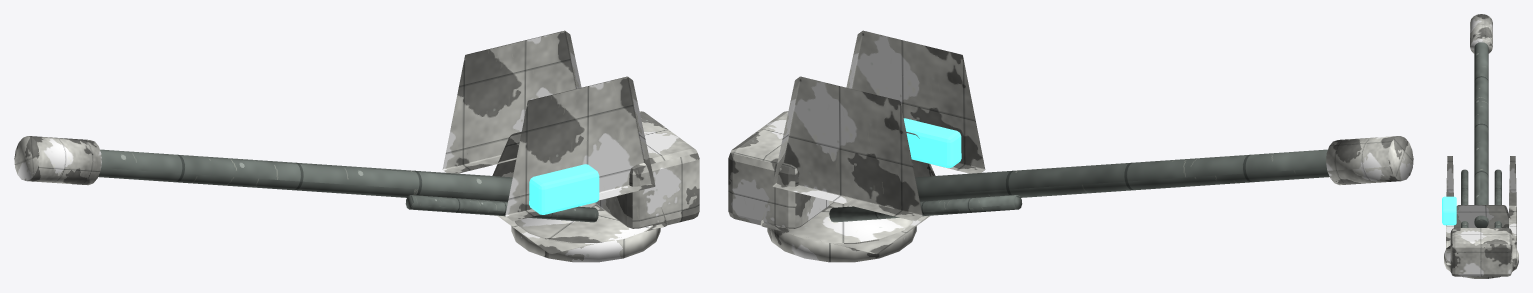
Rendered from artillery_turret.glb.
3 views of the same model, side by side, from view 1: azimuth 30°, elevation 25°; view 2: azimuth 150°, elevation 25°; view 3: azimuth 270°, elevation 25° (orthographic). The views are drawn at different scales.
Parts seen in each view (by area): view 1: artillery_turret_team_primary, artillery_turret_team_accent, artillery_turret_factory_metal, artillery_turret_glass_emissive; view 2: artillery_turret_team_primary, artillery_turret_team_accent, artillery_turret_factory_metal, artillery_turret_glass_emissive; view 3: artillery_turret_team_accent, artillery_turret_factory_metal, artillery_turret_team_primary, artillery_turret_glass_emissive.
Part boxes in pixels (x1=…): artillery_turret_team_primary: x1=442, y1=30, x2=667, y2=253; artillery_turret_team_accent: x1=14, y1=111, x2=699, y2=262; artillery_turret_factory_metal: x1=98, y1=149, x2=598, y2=222; artillery_turret_glass_emissive: x1=529, y1=164, x2=599, y2=214; artillery_turret_team_primary: x1=760, y1=30, x2=985, y2=253; artillery_turret_team_accent: x1=728, y1=111, x2=1413, y2=262; artillery_turret_factory_metal: x1=829, y1=149, x2=1329, y2=222; artillery_turret_glass_emissive: x1=903, y1=118, x2=961, y2=167; artillery_turret_team_accent: x1=1444, y1=14, x2=1518, y2=278; artillery_turret_factory_metal: x1=1461, y1=42, x2=1501, y2=227; artillery_turret_team_primary: x1=1446, y1=156, x2=1516, y2=265; artillery_turret_glass_emissive: x1=1442, y1=196, x2=1456, y2=225.
Size of the model in its own units: 5.62 by 1.89 by 1.15.
Materials: 4 (3 with a texture image).
